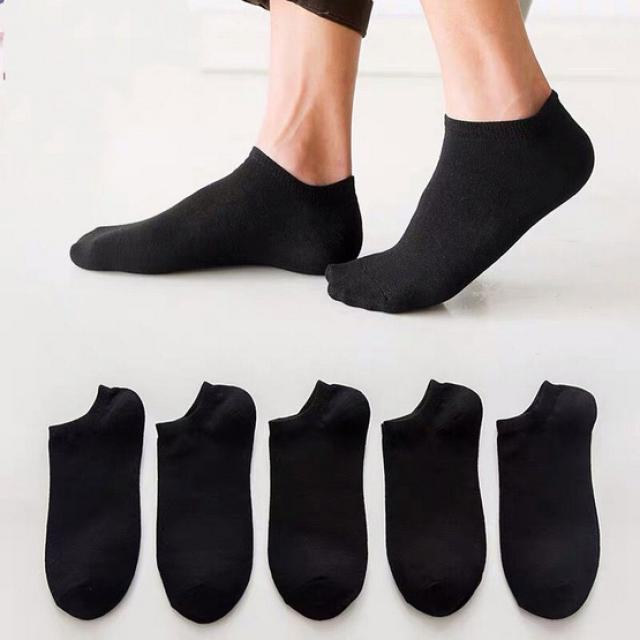sock: (324, 88, 595, 314), (69, 145, 363, 276), (494, 380, 600, 620), (266, 378, 371, 620), (381, 378, 486, 617), (155, 380, 256, 624), (44, 383, 145, 620)
